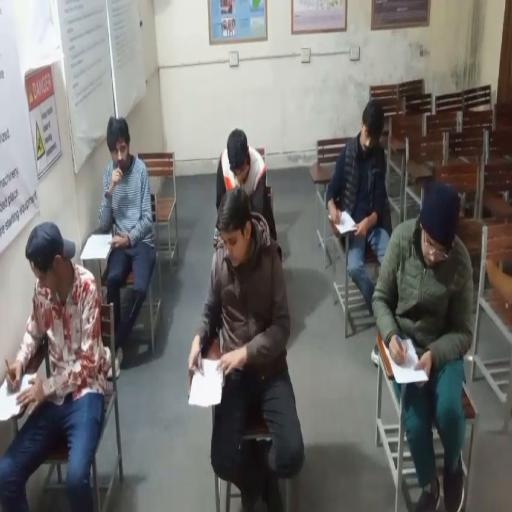paper: (388, 336, 428, 384), (0, 369, 36, 421), (188, 366, 223, 406), (81, 232, 114, 260), (333, 209, 357, 234)
